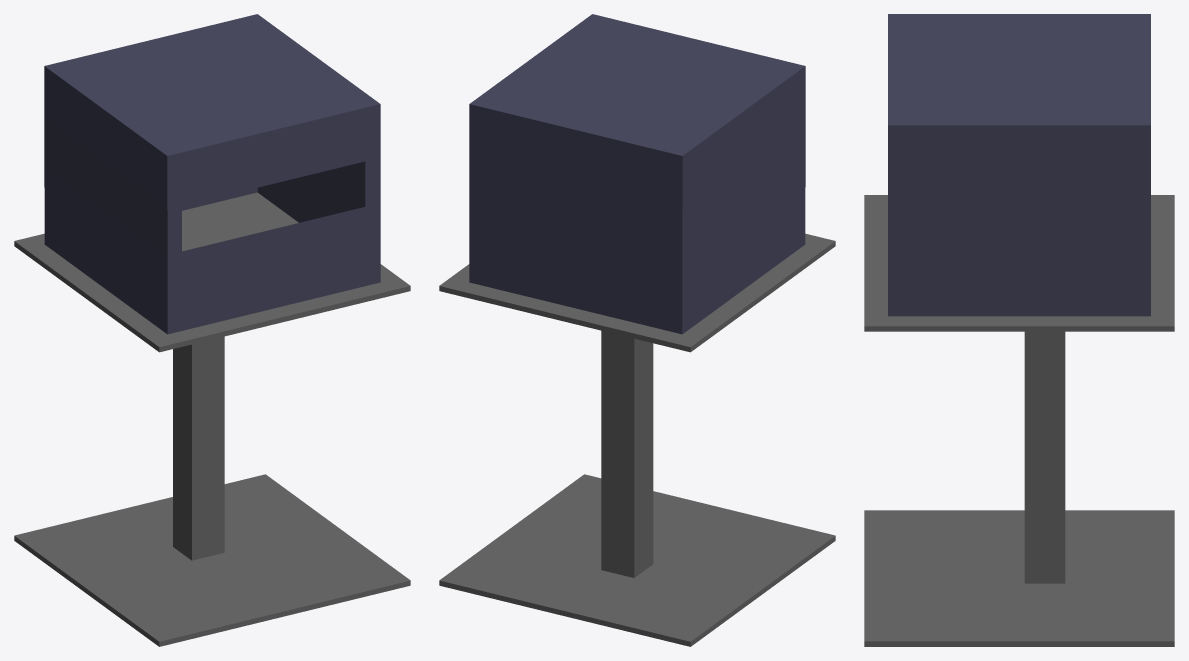
The model's file is Mail box 002.fbx.
3 renders of one model, left to right at view 1: azimuth 30°, elevation 25°; view 2: azimuth 150°, elevation 25°; view 3: azimuth 270°, elevation 25°, orthographic. The views are drawn at different scales.
Parts seen in each view (by area): view 1: polySurface1, polySurface4, polySurface2, polySurface3; view 2: polySurface1, polySurface4, polySurface3, polySurface2; view 3: polySurface1, polySurface4, polySurface2, polySurface3.
Part boxes in pixels (<box>): polySurface1: <box>44,14,380,334</box>; polySurface4: <box>14,474,410,646</box>; polySurface2: <box>14,192,410,352</box>; polySurface3: <box>173,336,224,560</box>; polySurface1: <box>469,14,805,334</box>; polySurface4: <box>439,474,835,646</box>; polySurface3: <box>601,330,653,577</box>; polySurface2: <box>439,233,835,352</box>; polySurface1: <box>888,14,1150,316</box>; polySurface4: <box>864,510,1174,646</box>; polySurface2: <box>864,195,1174,331</box>; polySurface3: <box>1024,331,1065,583</box>.
Size of the model in its own units: 20.06 by 36.9 by 20.06.
